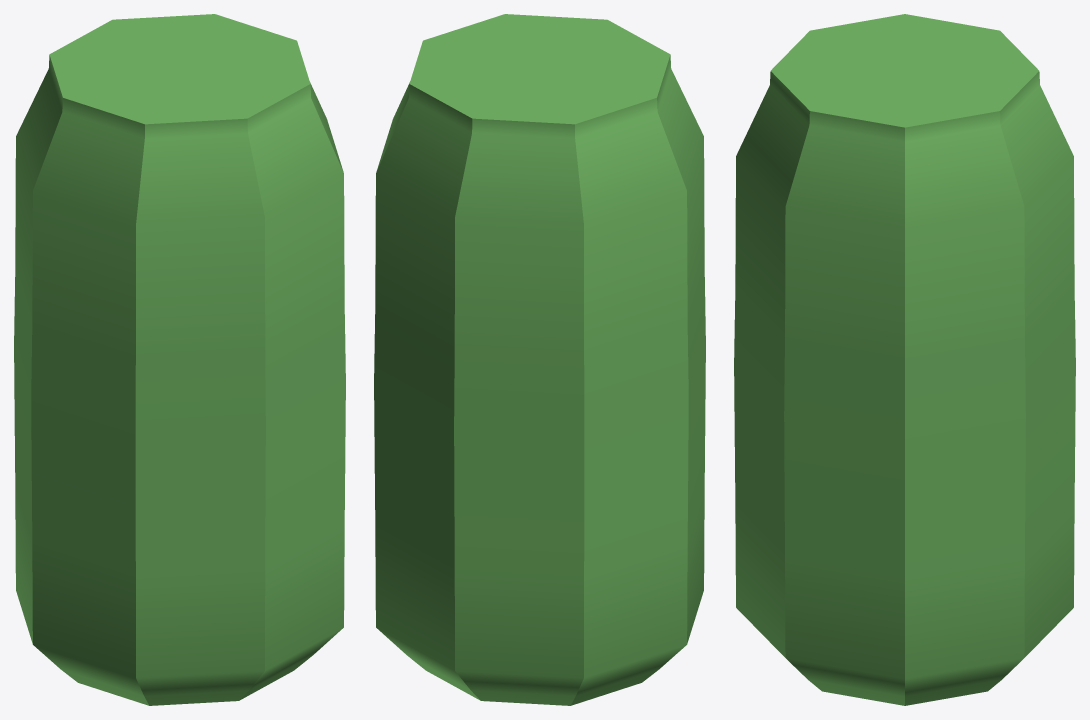
File: SodaCan.fbx
3 views of the same model, side by side, from view 1: azimuth 30°, elevation 25°; view 2: azimuth 150°, elevation 25°; view 3: azimuth 270°, elevation 25° (orthographic).
Parts seen in each view (by area): view 1: Soda_Can; view 2: Soda_Can; view 3: Soda_Can.
Boxes of the visible parts, box(x1,y1,x2,y2) form: Soda_Can: box(14, 14, 345, 705); Soda_Can: box(374, 14, 705, 705); Soda_Can: box(734, 14, 1075, 705).
Size of the model in its own units: 2.31 by 4.37 by 2.31.
